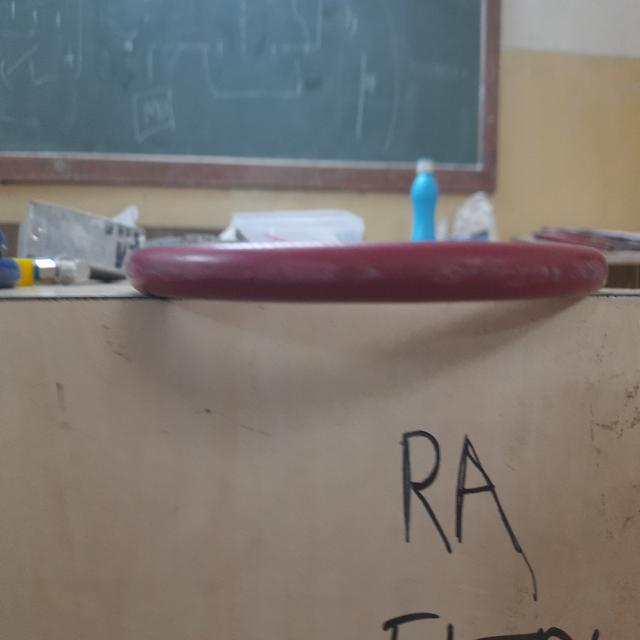daire: (148, 238, 598, 299)
